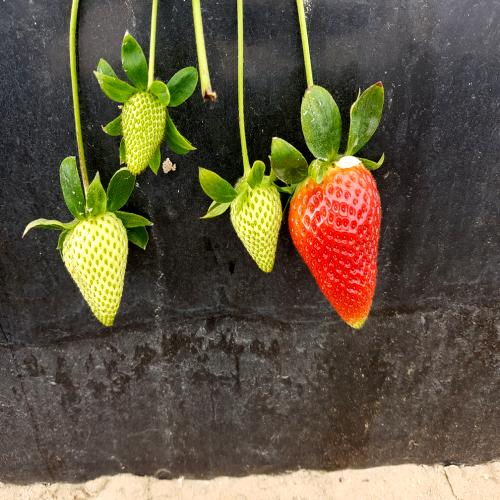ripe: (281, 142, 393, 343)
